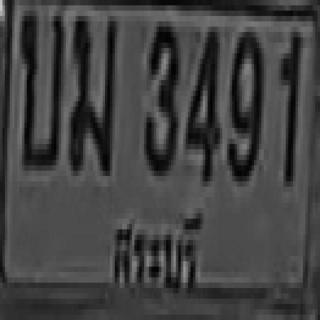A26: (18, 5, 62, 165)
A33: (67, 11, 116, 171)
N01: (280, 27, 299, 181)
N03: (142, 16, 178, 171)
N04: (183, 24, 217, 179)
N09: (226, 27, 263, 176)
P60: (106, 205, 206, 295)
